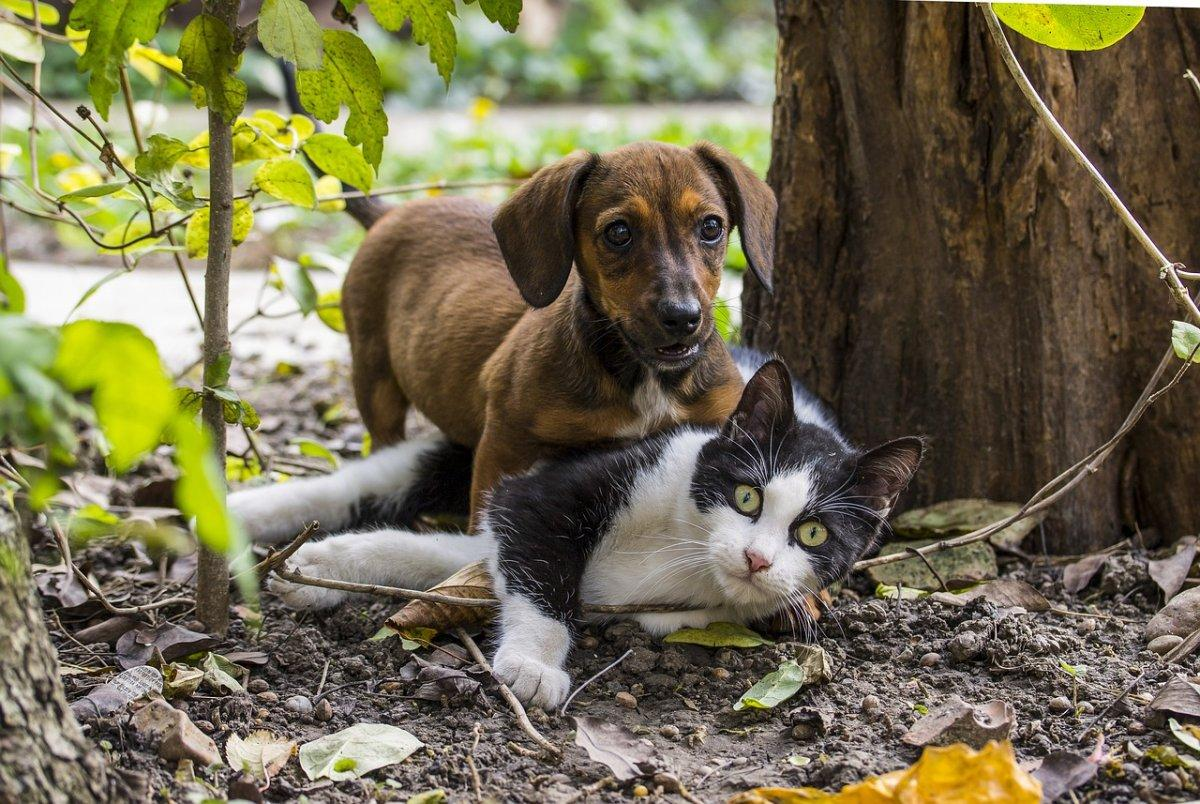animals: (596, 358, 964, 698), (459, 134, 799, 411)
